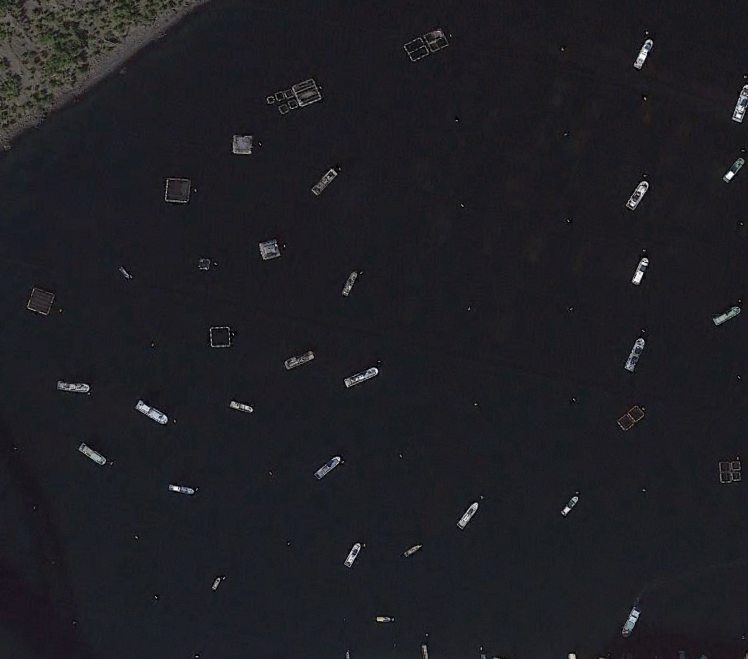ship: (343, 360, 391, 397), (130, 394, 172, 431), (309, 453, 357, 482), (306, 160, 344, 196), (279, 342, 320, 370), (223, 391, 257, 420), (76, 440, 110, 468), (455, 497, 480, 533), (55, 377, 94, 395), (166, 480, 200, 500), (558, 493, 581, 521), (342, 539, 359, 571), (627, 183, 645, 213), (625, 337, 638, 374), (345, 268, 360, 298), (115, 261, 135, 281), (400, 544, 423, 561), (637, 39, 650, 69), (708, 310, 740, 322), (725, 159, 743, 180), (736, 87, 746, 123), (624, 608, 634, 642), (370, 618, 400, 627), (634, 257, 644, 281), (211, 575, 224, 591)
square: (158, 171, 200, 214), (290, 74, 329, 112), (202, 318, 239, 357), (23, 285, 58, 319), (400, 31, 433, 65), (421, 20, 453, 54), (253, 234, 285, 265), (715, 455, 745, 488), (231, 129, 257, 159), (616, 410, 637, 435), (629, 402, 647, 423)
